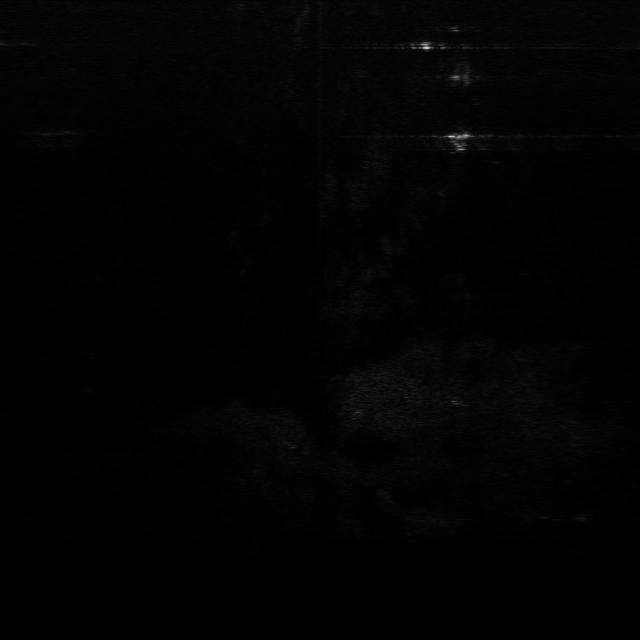rov: (443, 129, 479, 153)
